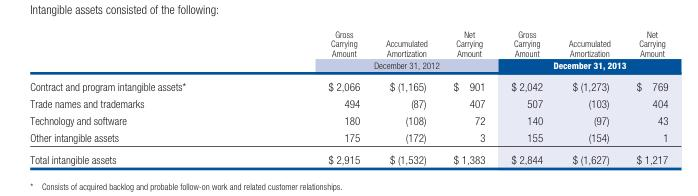table: (29, 29, 667, 165)
table column: (29, 29, 256, 165), (256, 29, 372, 165), (372, 29, 439, 165), (555, 29, 622, 165), (439, 29, 497, 165), (497, 29, 555, 165), (622, 29, 667, 165)
table column header: (29, 29, 667, 75)
table row: (29, 29, 667, 58), (29, 75, 667, 94), (29, 128, 667, 147), (29, 147, 667, 165), (29, 58, 667, 75), (29, 94, 667, 111), (29, 111, 667, 128)
table spanning cell: (256, 58, 497, 75), (497, 58, 667, 75)
